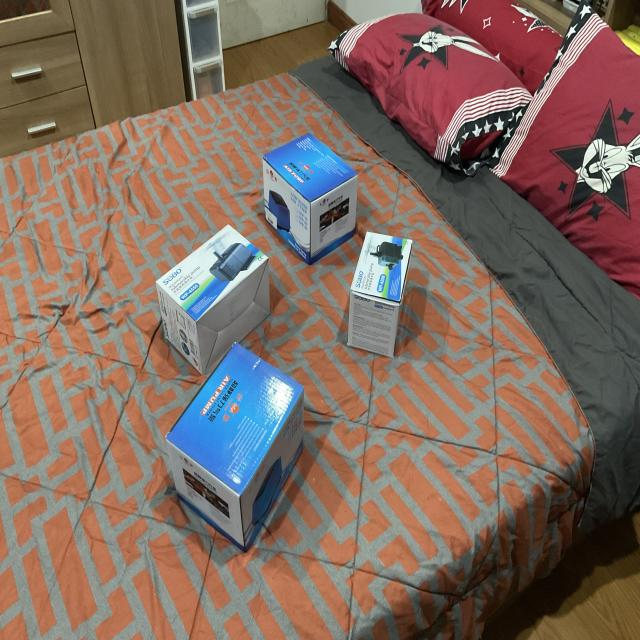SOBO_WP_4200: (150, 215, 282, 367), (341, 223, 422, 367)
YAMANO_LPP_20: (160, 346, 327, 559), (259, 124, 367, 266)
